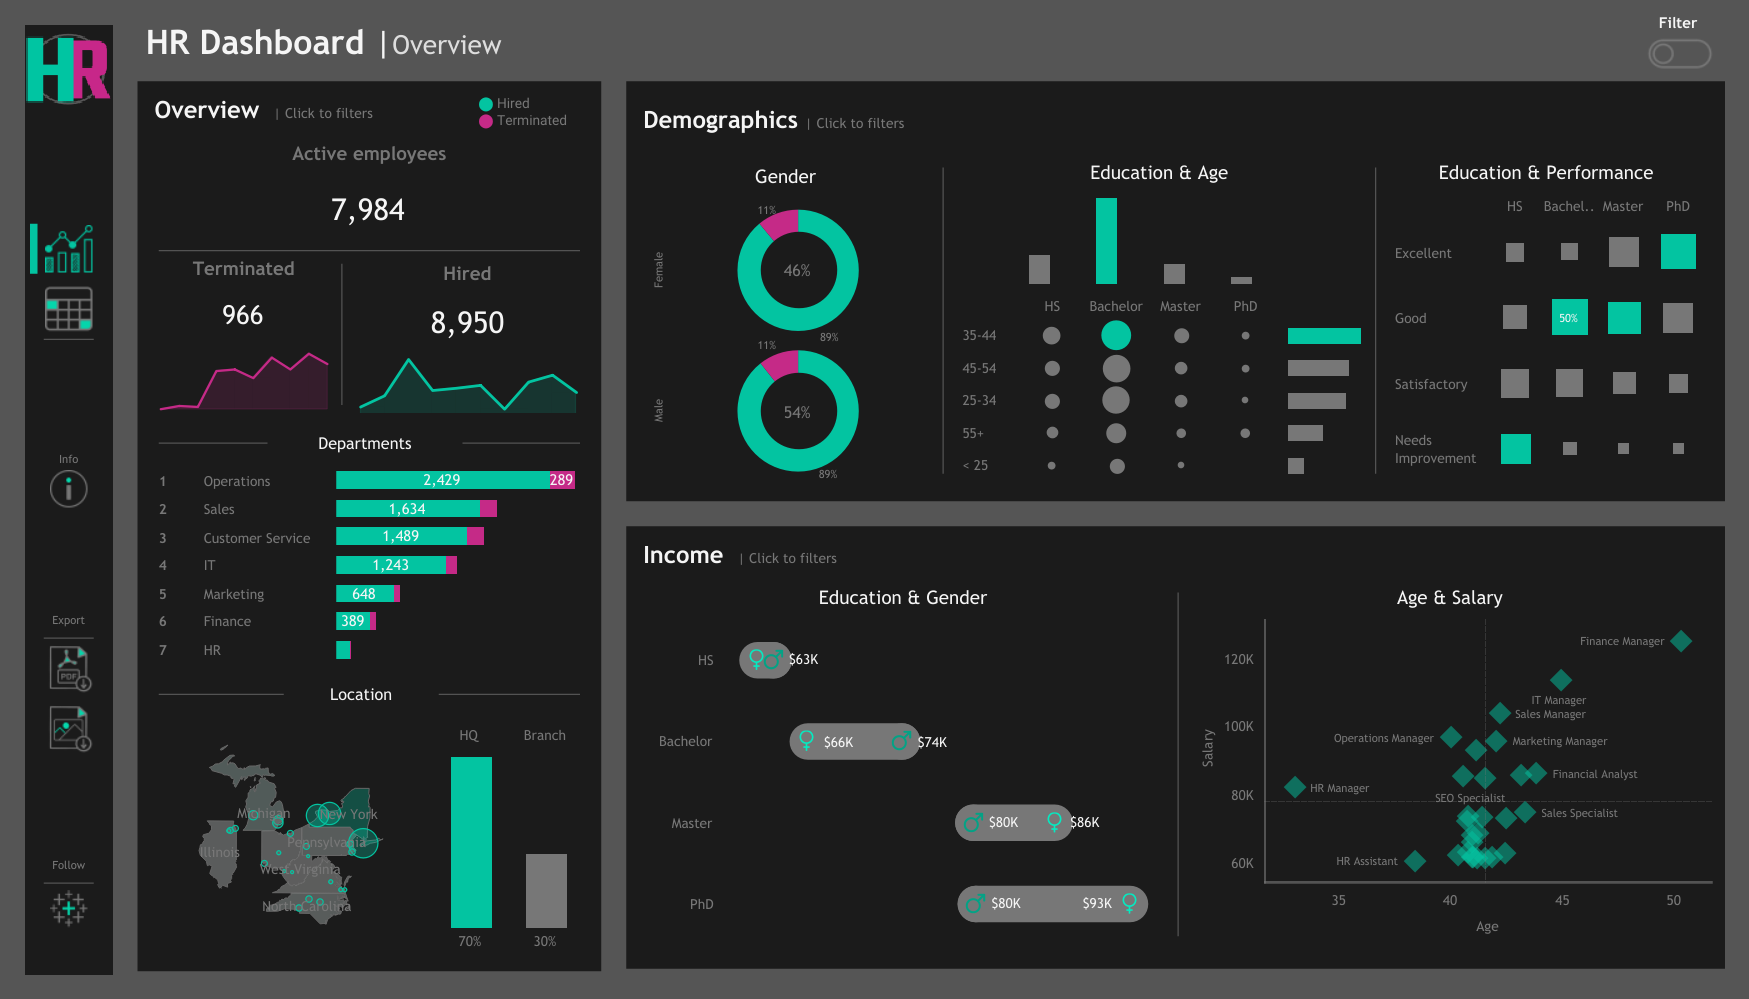

The page's visual inventory and layout, read from the dashboard file:
{"tool":"tableau","page":{"name":"HR Dashboard","canvas":[1400,800],"ordinal":0},"visuals":[{"type":"blank","box":[90,0,1310,254]},{"type":"text","box":[110,0,1063,65]},{"type":"blank","box":[1173,0,207,65]},{"type":"text","box":[1302,4,82,27]},{"type":"filter","title":"Gender vs Education ","param":"[federated.1ufyzz309d38qx1deulmp1iymd0n].[none:Gender:nk]","box":[798,9,135,49]},{"type":"filter","title":"Gender vs Education ","param":"[federated.1ufyzz309d38qx1deulmp1iymd0n].[none:Calculation_874542752819122187:nk","box":[933,9,134,49]},{"type":"filter","title":"Gender vs Education ","param":"[federated.1ufyzz309d38qx1deulmp1iymd0n].[none:Calculation_874542820116103174:nk","box":[1067,9,134,49]},{"type":"filter","title":"Gender vs Education ","param":"[federated.1ufyzz309d38qx1deulmp1iymd0n].[yr:Hiredate:ok]","box":[1201,9,134,49]},{"type":"image","param":"Image/Logo.png","box":[20,20,70,70]},{"type":"dashboard-object","box":[1318,24,52,39]},{"type":"text","box":[380,71,91,36]},{"type":"text","box":[117,72,357,35]},{"type":"text","box":[508,72,865,47]},{"type":"blank","box":[20,90,70,80]},{"type":"text","box":[117,107,357,35]},{"type":"text","box":[508,124,241,32]},{"type":"blank","box":[754,124,1,265]},{"type":"text","box":[760,124,335,29]},{"type":"blank","box":[1100,124,1,265]},{"type":"text","box":[1106,124,262,29]},{"type":"worksheet","title":"Active","mark":"Text","box":[117,142,357,64]},{"type":"worksheet","title":"Education Levels","mark":"Bar","rows":["Calculation_874542820103266304"],"cols":["Education Level"],"box":[760,153,335,80]},{"type":"worksheet","title":"Education vs Performance","mark":"Square","rows":["Performance Rating"],"cols":["Education Level"],"box":[1106,153,262,236]},{"type":"worksheet","title":"Gender Ratio","mark":"Circle","rows":["Gender"],"cols":["Calculation_874542821097345032","Calculation_874542821097345032"],"box":[508,156,241,233]},{"type":"blank","box":[24,179,6,40]},{"type":"dashboard-object","box":[30,180,50,38]},{"type":"blank","box":[117,206,357,1]},{"type":"text","box":[117,207,156,29]},{"type":"blank","box":[273,207,1,133]},{"type":"text","box":[274,207,199.9,34]},{"type":"blank","box":[30,218,50,10]},{"type":"dashboard-object","box":[30,228,50,38]},{"type":"worksheet","title":"Age vs Education ","mark":"Circle","rows":["Calculation_874542821112254474"],"cols":["Education Level"],"box":[760,233,266,156]},{"type":"worksheet","title":"Age Groups ","mark":"Bar","rows":["Calculation_874542821112254474"],"cols":["Calculation_874542820103266304"],"box":[1026,233,69,156]},{"type":"worksheet","title":"Terminated","mark":"Text","box":[117,236,156,47]},{"type":"worksheet","title":"Hired","mark":"Text","box":[274,241,199.9,45]},{"type":"text","box":[90,254,1310,246]},{"type":"blank","box":[30,266,50,11]},{"type":"blank","box":[30,277,50,80]},{"type":"worksheet","title":"Terminated by Year ","mark":"Line","rows":["Calculation_874542820103340033","Calculation_874542820103340033"],"cols":["Termdate"],"box":[117,283,156,57]},{"type":"worksheet","title":"Hired by Year ","mark":"Line","rows":["Calculation_874542820103266304","Calculation_874542820103266304"],"cols":["Hiredate"],"box":[274,286,199.9,54]},{"type":"blank","box":[127,345,87,30]},{"type":"text","box":[214,345,156,30]},{"type":"blank","box":[370,345,94,30]},{"type":"text","box":[30,357,50,22]},{"type":"worksheet","title":"Departments","mark":"Bar","rows":["Calculation_874542820114825221","Department"],"cols":["Calculation_874542820103266304"],"box":[117,375,357,160]},{"type":"dashboard-object","box":[30,379,50,30]},{"type":"blank","box":[30,409,50,80]},{"type":"text","box":[508,428,865,35]},{"type":"text","box":[508,468,427,29]},{"type":"blank","box":[940,468,1,295]},{"type":"text","box":[946,468,427,29]},{"type":"text","box":[30,489,50,22]},{"type":"worksheet","title":"Gender vs Education ","mark":"Square","rows":["Education Level"],"cols":["Salary","Salary"],"box":[508,497,427,266]},{"type":"worksheet","title":"Age vs Salary","mark":"Automatic","rows":["Salary"],"cols":["Calculation_874542821102813193"],"box":[946,497,427,266]},{"type":"blank","box":[90,500,1310,300]},{"type":"blank","box":[30,511,50,11]},{"type":"dashboard-object","box":[30,522,50,38]},{"type":"blank","box":[127,540,100,30]},{"type":"text","box":[227,540,124,30]},{"type":"blank","box":[351,540,113,30]},{"type":"blank","box":[30,560,50,10]},{"type":"dashboard-object","box":[30,570,50,38]},{"type":"worksheet","title":"Map States","mark":"Multipolygon","box":[121,574,221,192]},{"type":"worksheet","title":"Loction ","mark":"Bar","rows":["Calculation_874542820103266304"],"cols":["Calculation_874542820116103174","Calculation1"],"box":[342,574,128,192]},{"type":"blank","box":[30,608,50,80]},{"type":"text","box":[30,688,50,22]},{"type":"blank","box":[30,710,50,11]},{"type":"image","param":"Image/contact-public.png","box":[30,721,50,30]}]}

Visuals, with their boxes in screenshot pixels (x1, y1, x2, y2), scaled from the page's 1400x800 canvas onto the 1749x999 screenshot:
blank: [left=112, top=0, right=1748, bottom=317]
text: [left=137, top=0, right=1465, bottom=81]
blank: [left=1465, top=0, right=1724, bottom=81]
text: [left=1627, top=5, right=1729, bottom=39]
"Gender vs Education " filter: [left=997, top=11, right=1166, bottom=72]
"Gender vs Education " filter: [left=1166, top=11, right=1333, bottom=72]
"Gender vs Education " filter: [left=1333, top=11, right=1500, bottom=72]
"Gender vs Education " filter: [left=1500, top=11, right=1668, bottom=72]
image: [left=25, top=25, right=112, bottom=112]
dashboard-object: [left=1647, top=30, right=1712, bottom=79]
text: [left=475, top=89, right=588, bottom=134]
text: [left=146, top=90, right=592, bottom=134]
text: [left=635, top=90, right=1715, bottom=149]
blank: [left=25, top=112, right=112, bottom=212]
text: [left=146, top=134, right=592, bottom=177]
text: [left=635, top=155, right=936, bottom=195]
blank: [left=942, top=155, right=943, bottom=486]
text: [left=949, top=155, right=1368, bottom=191]
blank: [left=1374, top=155, right=1375, bottom=486]
text: [left=1382, top=155, right=1709, bottom=191]
"Active" worksheet (Text marks): [left=146, top=177, right=592, bottom=257]
"Education Levels" worksheet (Bar marks): [left=949, top=191, right=1368, bottom=291]
"Education vs Performance" worksheet (Square marks): [left=1382, top=191, right=1709, bottom=486]
"Gender Ratio" worksheet (Circle marks): [left=635, top=195, right=936, bottom=486]
blank: [left=30, top=224, right=37, bottom=273]
dashboard-object: [left=37, top=225, right=100, bottom=272]
blank: [left=146, top=257, right=592, bottom=258]
text: [left=146, top=258, right=341, bottom=295]
blank: [left=341, top=258, right=342, bottom=425]
text: [left=342, top=258, right=592, bottom=301]
blank: [left=37, top=272, right=100, bottom=285]
dashboard-object: [left=37, top=285, right=100, bottom=332]
"Age vs Education " worksheet (Circle marks): [left=949, top=291, right=1282, bottom=486]
"Age Groups " worksheet (Bar marks): [left=1282, top=291, right=1368, bottom=486]
"Terminated" worksheet (Text marks): [left=146, top=295, right=341, bottom=353]
"Hired" worksheet (Text marks): [left=342, top=301, right=592, bottom=357]
text: [left=112, top=317, right=1748, bottom=624]
blank: [left=37, top=332, right=100, bottom=346]
blank: [left=37, top=346, right=100, bottom=446]
"Terminated by Year " worksheet (Line marks): [left=146, top=353, right=341, bottom=425]
"Hired by Year " worksheet (Line marks): [left=342, top=357, right=592, bottom=425]
blank: [left=159, top=431, right=267, bottom=468]
text: [left=267, top=431, right=462, bottom=468]
blank: [left=462, top=431, right=580, bottom=468]
text: [left=37, top=446, right=100, bottom=473]
"Departments" worksheet (Bar marks): [left=146, top=468, right=592, bottom=668]
dashboard-object: [left=37, top=473, right=100, bottom=511]
blank: [left=37, top=511, right=100, bottom=611]
text: [left=635, top=534, right=1715, bottom=578]
text: [left=635, top=584, right=1168, bottom=621]
blank: [left=1174, top=584, right=1176, bottom=953]
text: [left=1182, top=584, right=1715, bottom=621]
text: [left=37, top=611, right=100, bottom=638]
"Gender vs Education " worksheet (Square marks): [left=635, top=621, right=1168, bottom=953]
"Age vs Salary" worksheet: [left=1182, top=621, right=1715, bottom=953]
blank: [left=112, top=624, right=1748, bottom=998]
blank: [left=37, top=638, right=100, bottom=652]
dashboard-object: [left=37, top=652, right=100, bottom=699]
blank: [left=159, top=674, right=284, bottom=712]
text: [left=284, top=674, right=438, bottom=712]
blank: [left=438, top=674, right=580, bottom=712]
blank: [left=37, top=699, right=100, bottom=712]
dashboard-object: [left=37, top=712, right=100, bottom=759]
"Map States" worksheet (Multipolygon marks): [left=151, top=717, right=427, bottom=957]
"Loction " worksheet (Bar marks): [left=427, top=717, right=587, bottom=957]
blank: [left=37, top=759, right=100, bottom=859]
text: [left=37, top=859, right=100, bottom=887]
blank: [left=37, top=887, right=100, bottom=900]
image: [left=37, top=900, right=100, bottom=938]
